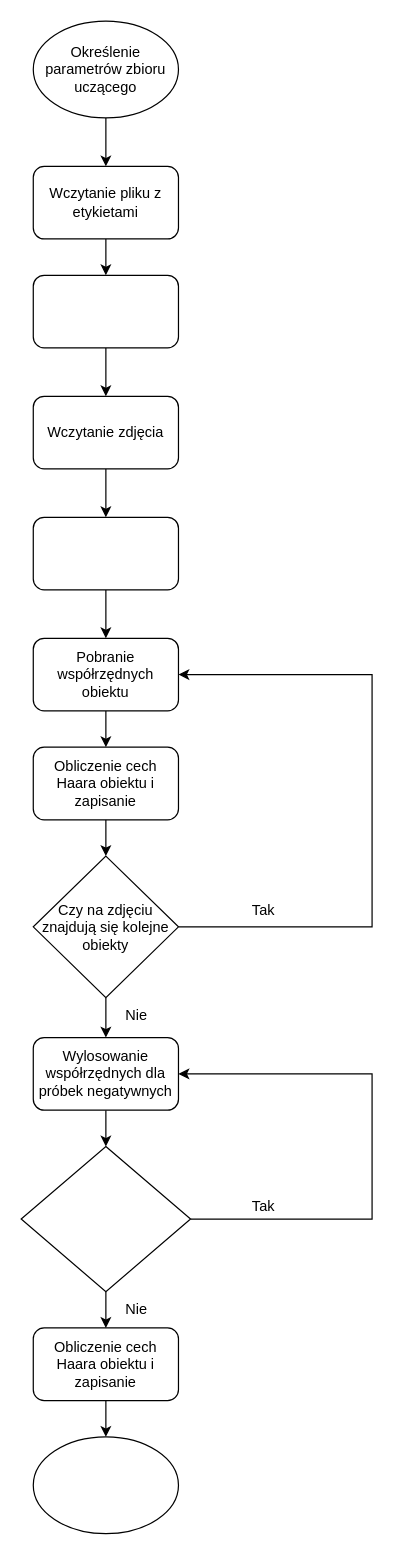
This 403x1555 diagram has some shape labels left out. Each missing label, with the box of its shape:
Czy wylosowane współrzędne nachodzą na obiekt: (20, 1145, 191, 1292)
Pobranie pojedynczego rekordu z pliku: (32, 274, 178, 348)
Wyliczenie obrazu całkowego: (32, 516, 178, 590)
Zapisanie zbioru do pliku i zakończenie procesu: (32, 1436, 178, 1534)
